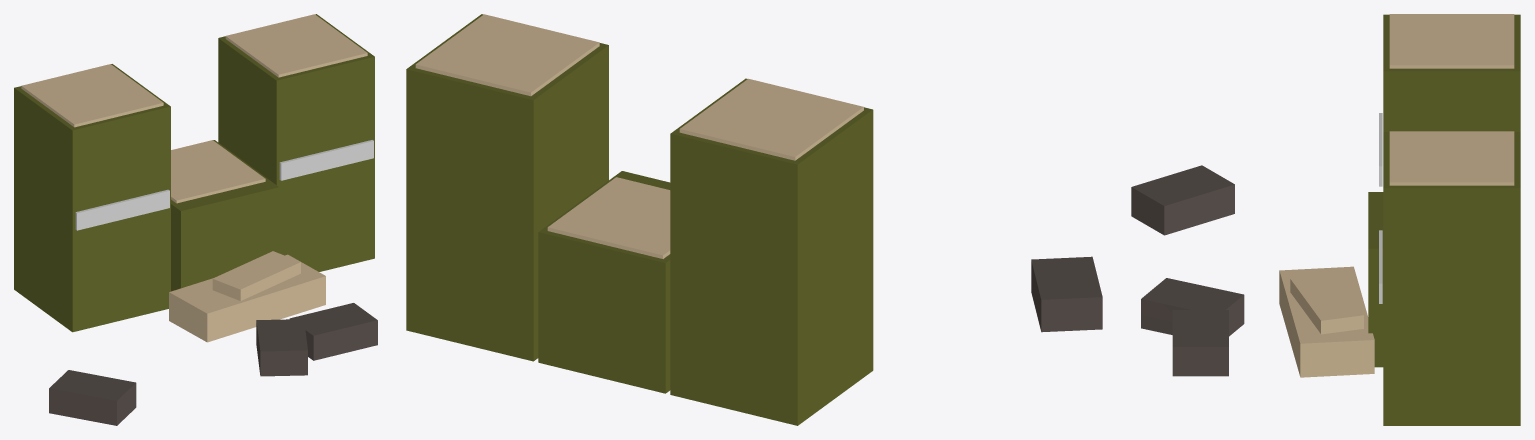
File: SM_HescoCorto3_v1_Geotextil_e1_Danado_LOD1.fbx
3 views of the same model, side by side, from view 1: azimuth 30°, elevation 25°; view 2: azimuth 150°, elevation 25°; view 3: azimuth 270°, elevation 25° (orthographic). The views are drawn at different scales.
Visible parts, largest first — view 1: SM_hesco_piezas_v85_LOD1; view 2: SM_hesco_piezas_v85_LOD1; view 3: SM_hesco_piezas_v85_LOD1.
Boxes of the visible parts, x1,y1,x2,y2 form: SM_hesco_piezas_v85_LOD1: (14, 14, 377, 425); SM_hesco_piezas_v85_LOD1: (406, 14, 1102, 425); SM_hesco_piezas_v85_LOD1: (1131, 14, 1520, 425).
Bounding box in the file's own units: 4.39 × 2.13 × 3.12.
